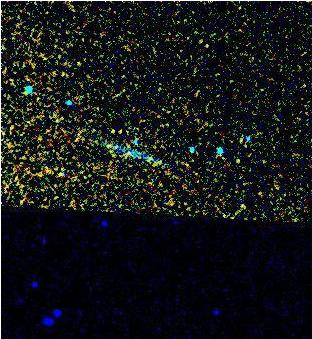star: (222, 147, 252, 177)
